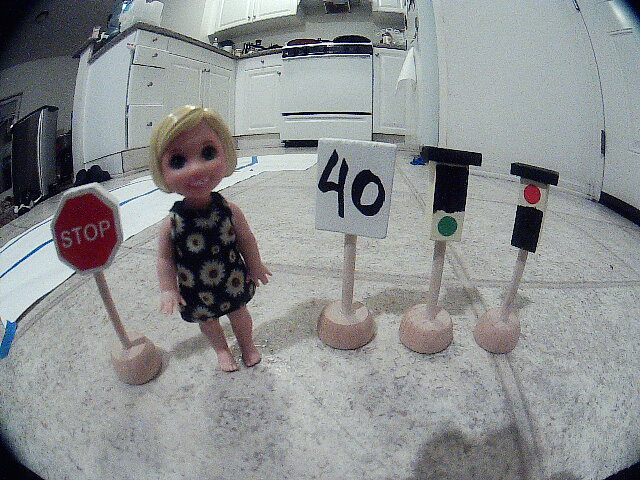Green Traffic Light: (408, 136, 499, 268)
Person: (123, 106, 307, 376)
Red Traffic Light: (499, 153, 576, 273)
Speed Limit 40: (306, 125, 407, 255)
Stop Sign: (38, 177, 146, 286)
